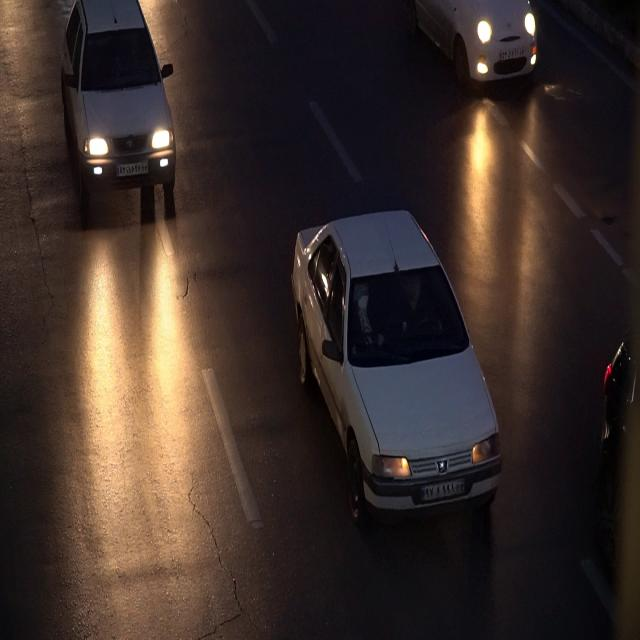car: (294, 209, 503, 532), (60, 0, 178, 204), (414, 0, 538, 88)
